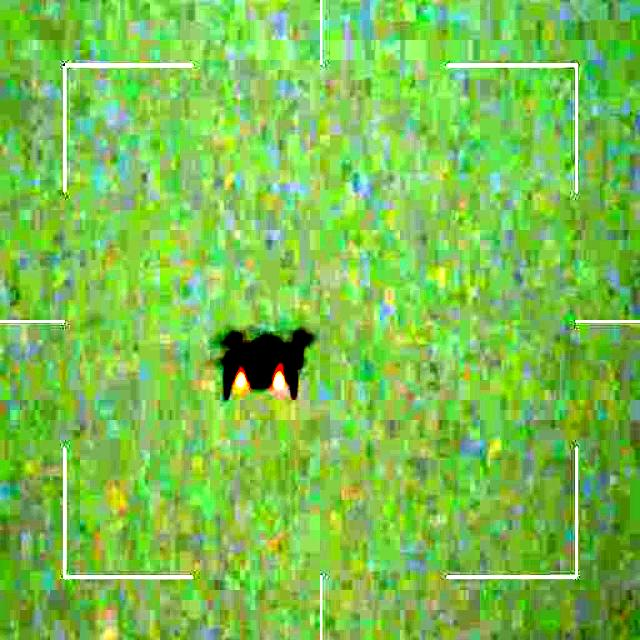bird: (216, 324, 314, 400)
